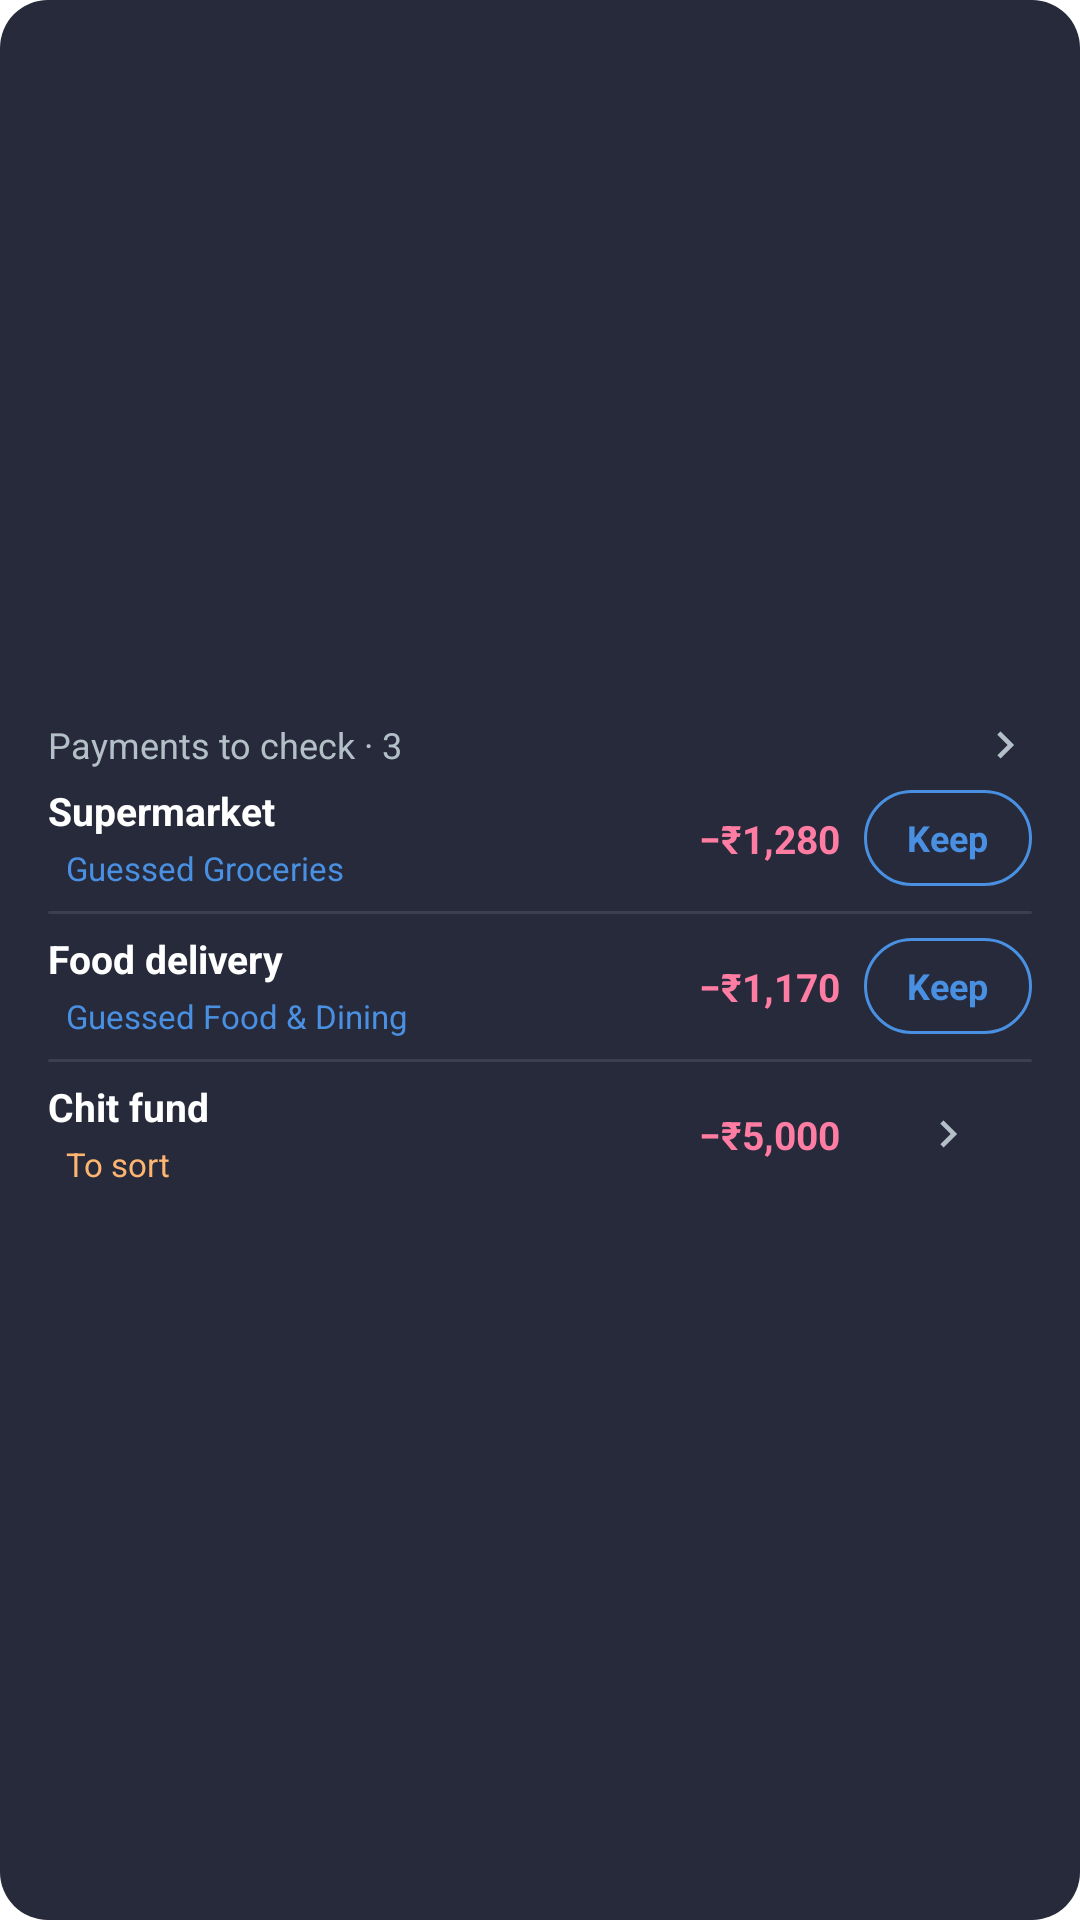

Named icons in this screenshot (1080 × 1920) and their centers, [x,y]:
widget chevron: [1005,745], [948,1134]
